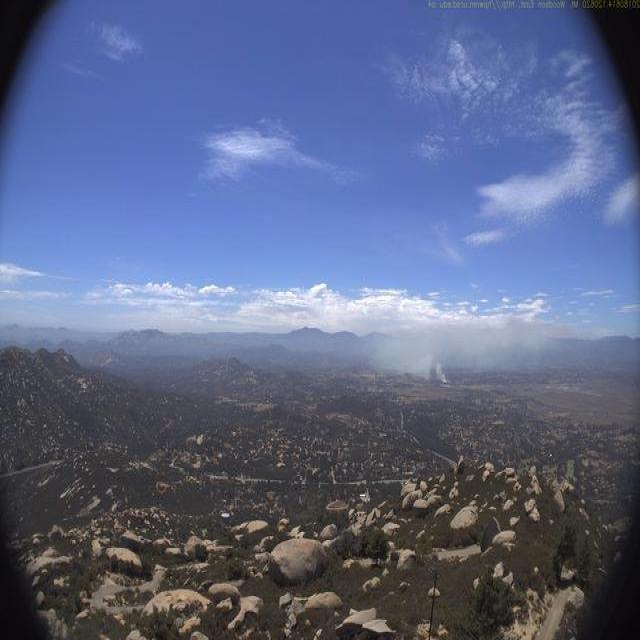smoke: (369, 308, 541, 383)
